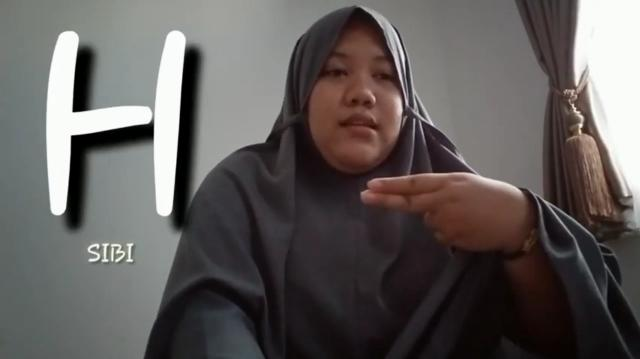H: (357, 174, 535, 258)
